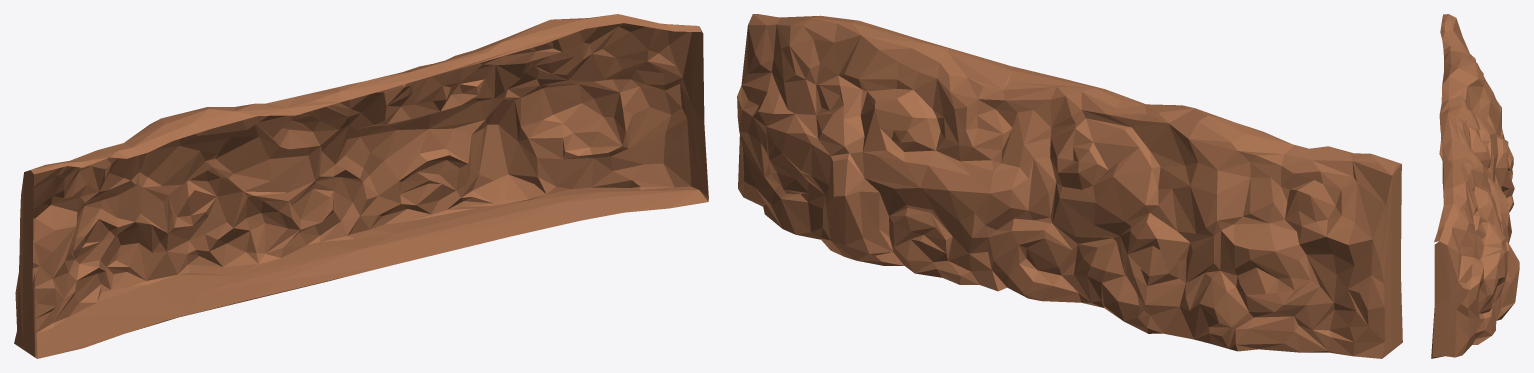
The model's file is lowerClish.fbx.
3 views of the same model, side by side, from view 1: azimuth 30°, elevation 25°; view 2: azimuth 150°, elevation 25°; view 3: azimuth 270°, elevation 25° (orthographic). The views are drawn at different scales.
Parts seen in each view (by area): view 1: LowPolyCliff1:Group43316; view 2: LowPolyCliff1:Group43316; view 3: LowPolyCliff1:Group43316.
Part boxes in pixels (x1,y1,x2,y2): LowPolyCliff1:Group43316: (14, 14, 708, 358); LowPolyCliff1:Group43316: (737, 14, 1402, 358); LowPolyCliff1:Group43316: (1431, 14, 1519, 358).
Bounding box in the file's own units: 11123 × 3226 × 1889.
